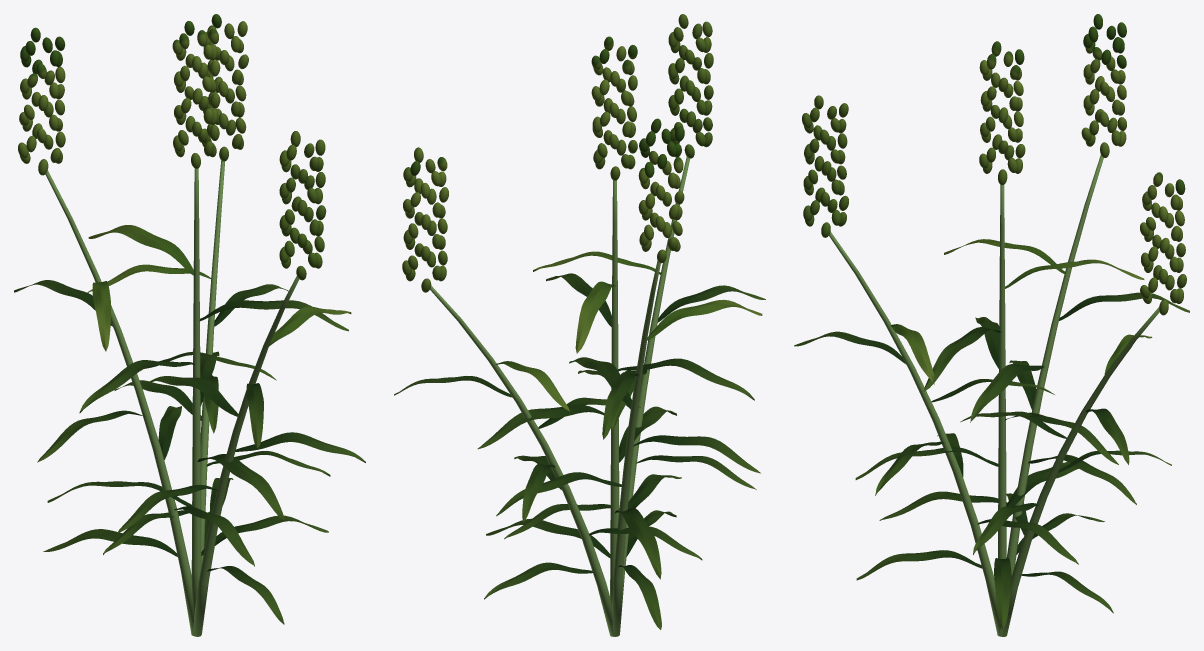
File: lavender-07.glb
3 renders of one model, left to right at view 1: azimuth 30°, elevation 25°; view 2: azimuth 150°, elevation 25°; view 3: azimuth 270°, elevation 25°, orthographic. The views are drawn at different scales.
Visible parts, largest first — view 1: lavender_stage_07_young_leaf.012, lavender_stage_07_leaf_veins.012, lavender_stage_07_stem_fibres.012; view 2: lavender_stage_07_young_leaf.012, lavender_stage_07_leaf_veins.012, lavender_stage_07_stem_fibres.012; view 3: lavender_stage_07_young_leaf.012, lavender_stage_07_leaf_veins.012, lavender_stage_07_stem_fibres.012.
Part boxes in pixels (x1=…): lavender_stage_07_young_leaf.012: x1=18, y1=14, x2=351, y2=351; lavender_stage_07_leaf_veins.012: x1=14, y1=280, x2=365, y2=624; lavender_stage_07_stem_fibres.012: x1=45, y1=160, x2=299, y2=636; lavender_stage_07_young_leaf.012: x1=402, y1=14, x2=762, y2=411; lavender_stage_07_leaf_veins.012: x1=394, y1=273, x2=765, y2=629; lavender_stage_07_stem_fibres.012: x1=430, y1=156, x2=690, y2=636; lavender_stage_07_young_leaf.012: x1=802, y1=14, x2=1186, y2=384; lavender_stage_07_leaf_veins.012: x1=794, y1=292, x2=1189, y2=629; lavender_stage_07_stem_fibres.012: x1=829, y1=155, x2=1159, y2=636.
Bounding box in the file's own units: 0.2776 × 0.5097 × 0.312.
Materials: 3 (2 with a texture image).
